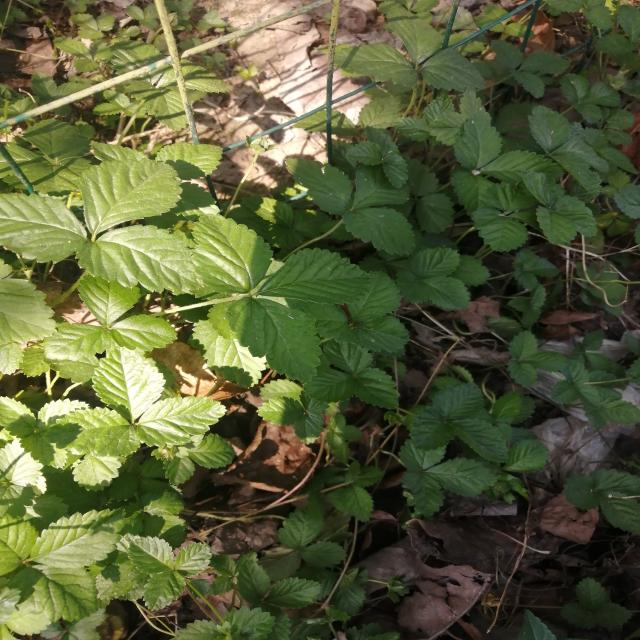Mock_strawberry: (0, 149, 386, 365)
